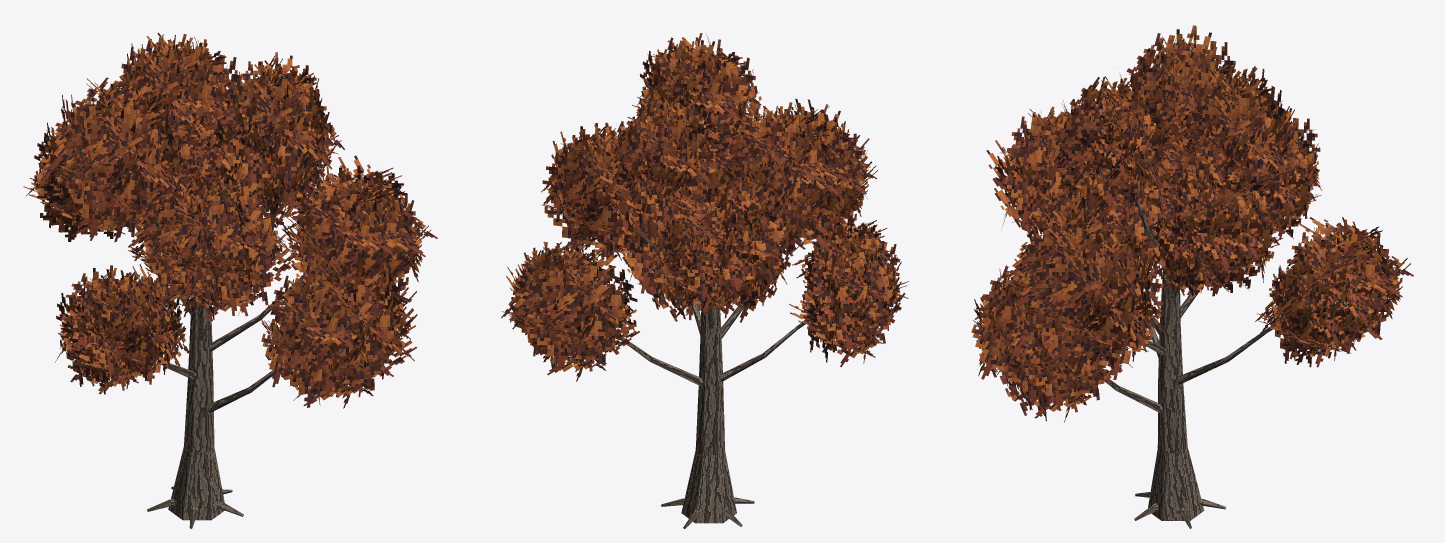
The model's file is TREE_Maple_Autumn_A_LOD1.glb.
3 renders of one model, left to right at view 1: azimuth 30°, elevation 25°; view 2: azimuth 150°, elevation 25°; view 3: azimuth 270°, elevation 25°, orthographic. The views are drawn at different scales.
Visible parts, largest first — view 1: TREE_Maple_Autumn_A_LOD1__Card, TREE_Maple_Autumn_A_LOD1__Bark, TREE_Maple_Autumn_A_LOD1__Foliage; view 2: TREE_Maple_Autumn_A_LOD1__Card, TREE_Maple_Autumn_A_LOD1__Bark; view 3: TREE_Maple_Autumn_A_LOD1__Card, TREE_Maple_Autumn_A_LOD1__Bark, TREE_Maple_Autumn_A_LOD1__Foliage.
Part boxes in pixels (bbox=[...]): TREE_Maple_Autumn_A_LOD1__Card: bbox=[23, 32, 437, 408]; TREE_Maple_Autumn_A_LOD1__Bark: bbox=[133, 192, 301, 528]; TREE_Maple_Autumn_A_LOD1__Foliage: bbox=[97, 94, 373, 351]; TREE_Maple_Autumn_A_LOD1__Card: bbox=[501, 33, 908, 381]; TREE_Maple_Autumn_A_LOD1__Bark: bbox=[621, 228, 814, 528]; TREE_Maple_Autumn_A_LOD1__Card: bbox=[971, 25, 1413, 422]; TREE_Maple_Autumn_A_LOD1__Bark: bbox=[1085, 199, 1275, 528]; TREE_Maple_Autumn_A_LOD1__Foliage: bbox=[1011, 90, 1360, 375].
Bounding box in the file's own units: 9.19 × 10.79 × 10.28.
3 materials, 3 textured.
